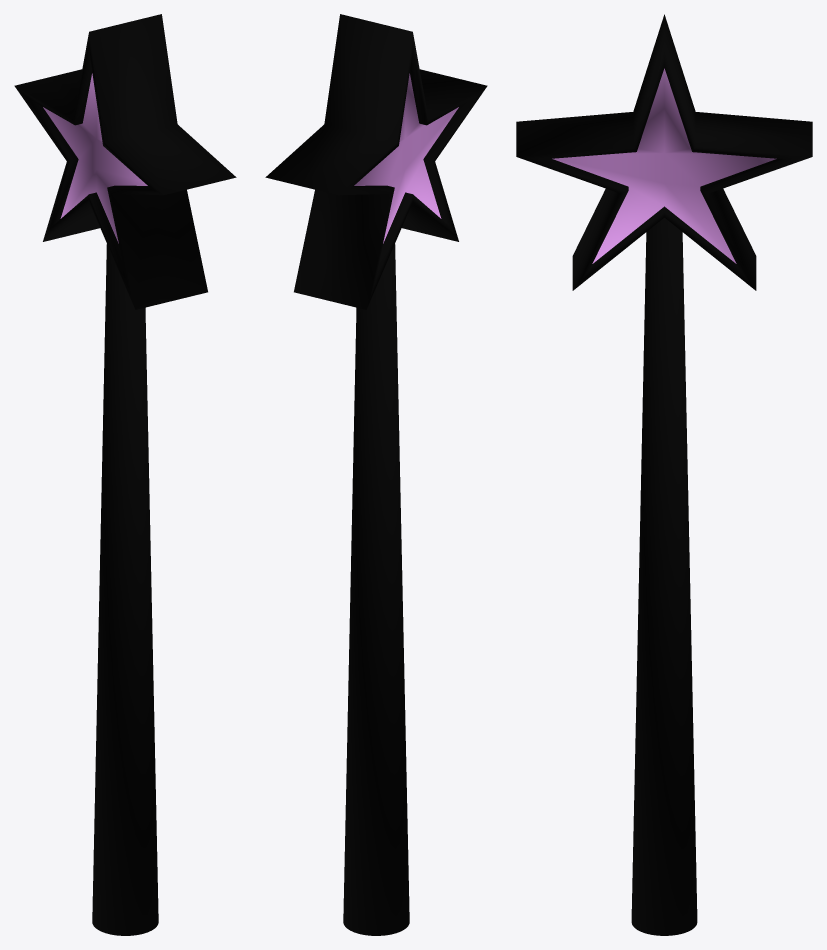
Rendered from Wand.fbx.
3 views of the same model, side by side, from view 1: azimuth 30°, elevation 25°; view 2: azimuth 150°, elevation 25°; view 3: azimuth 270°, elevation 25° (orthographic).
Visible parts, largest first — view 1: Circle; view 2: Circle; view 3: Circle.
Part boxes in pixels (x1,y1,x2,y2): Circle: (14, 14, 236, 935); Circle: (265, 14, 487, 935); Circle: (516, 14, 812, 935).
Size of the model in its own units: 56.21 by 663 by 200.
